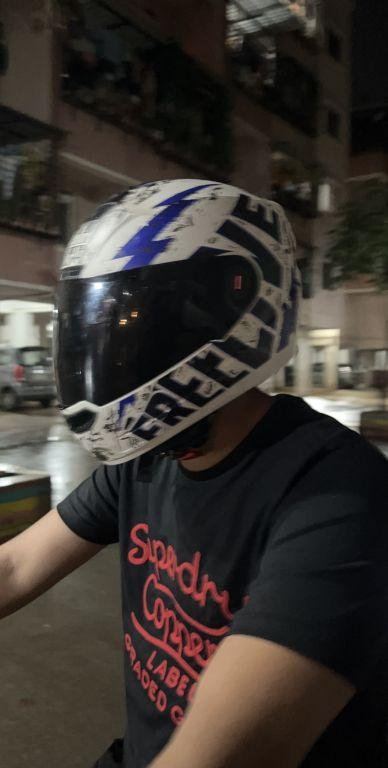helmet: (47, 162, 312, 474)
